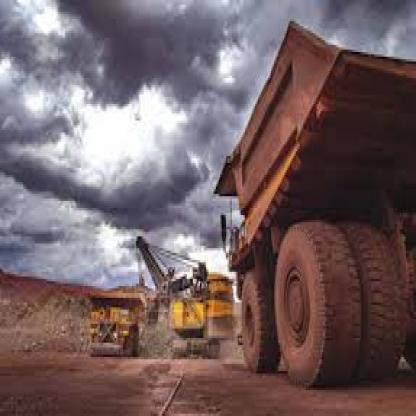dump_truck: (204, 10, 410, 392), (83, 282, 149, 360)
